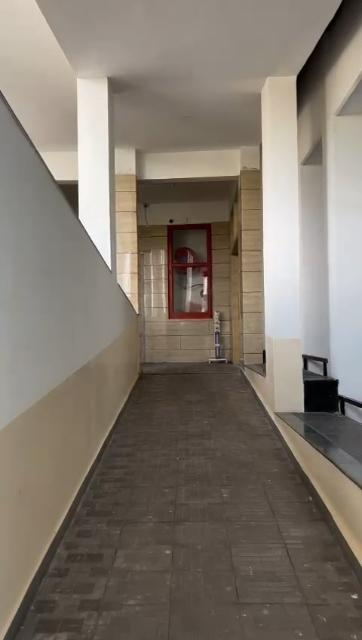floor: (12, 361, 359, 639)
wall: (76, 72, 140, 392), (320, 74, 362, 370), (262, 84, 300, 402), (227, 182, 264, 356), (134, 202, 170, 361), (166, 322, 214, 360), (211, 214, 226, 288)
